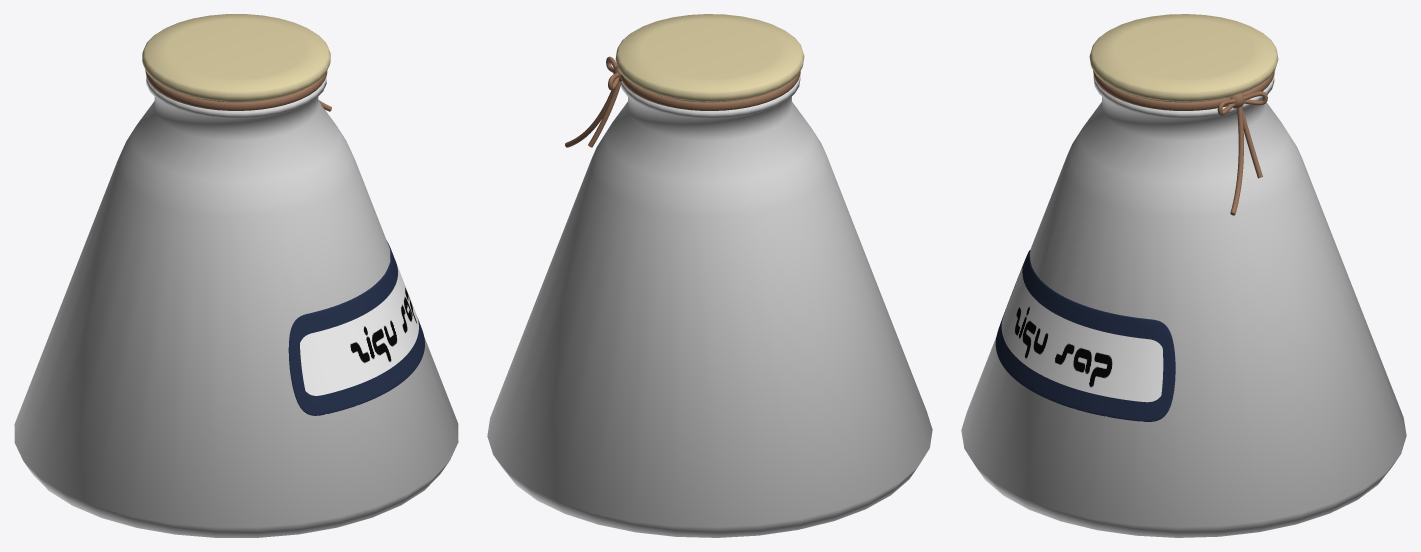
The model's file is chickenbroth.fbx.
3 renders of one model, left to right at view 1: azimuth 30°, elevation 25°; view 2: azimuth 150°, elevation 25°; view 3: azimuth 270°, elevation 25°, orthographic.
Parts seen in each view (by area): view 1: chicken broth, label.001, Cylinder.002, rope.001; view 2: chicken broth, Cylinder.002, rope.001; view 3: chicken broth, label.001, Cylinder.002, rope.001.
Part boxes in pixels (x1=…): chicken broth: x1=14, y1=76, x2=458, y2=537; label.001: x1=288, y1=241, x2=424, y2=415; Cylinder.002: x1=142, y1=14, x2=330, y2=102; rope.001: x1=145, y1=70, x2=331, y2=111; chicken broth: x1=487, y1=76, x2=932, y2=537; Cylinder.002: x1=615, y1=14, x2=804, y2=102; rope.001: x1=565, y1=56, x2=800, y2=147; chicken broth: x1=961, y1=75, x2=1406, y2=537; label.001: x1=995, y1=250, x2=1175, y2=421; Cylinder.002: x1=1089, y1=14, x2=1278, y2=102; rope.001: x1=1093, y1=70, x2=1274, y2=215.
Size of the model in its own units: 93.61 by 93.42 by 93.61.
